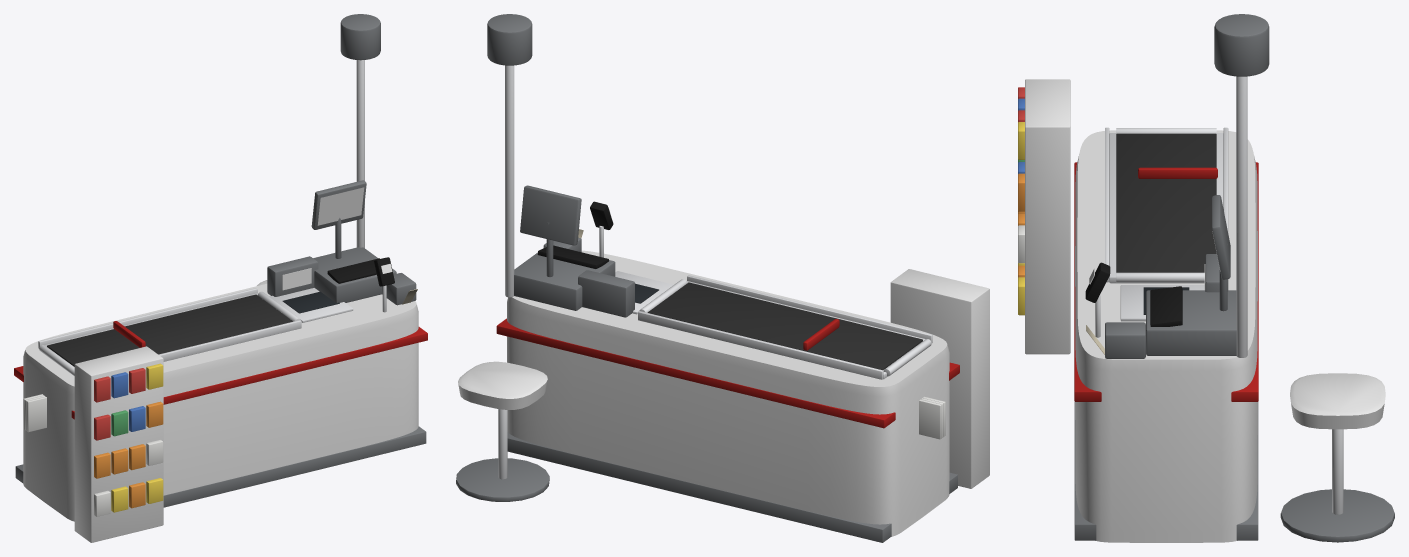
Rendered from CheckoutCounter.fbx.
The picture shows the model from 3 angles, left to right: view 1: azimuth 30°, elevation 25°; view 2: azimuth 150°, elevation 25°; view 3: azimuth 270°, elevation 25°; orthographic projection. The views are drawn at different scales.
Parts seen in each view (by area): view 1: CheckoutCounter; view 2: CheckoutCounter; view 3: CheckoutCounter.
Part boxes in pixels (left/top/right/bottom): CheckoutCounter: left=14, top=14, right=427, bottom=542; CheckoutCounter: left=456, top=14, right=989, bottom=542; CheckoutCounter: left=1018, top=14, right=1394, bottom=542.
Size of the model in its own units: 2.6 by 2.48 by 1.65.
